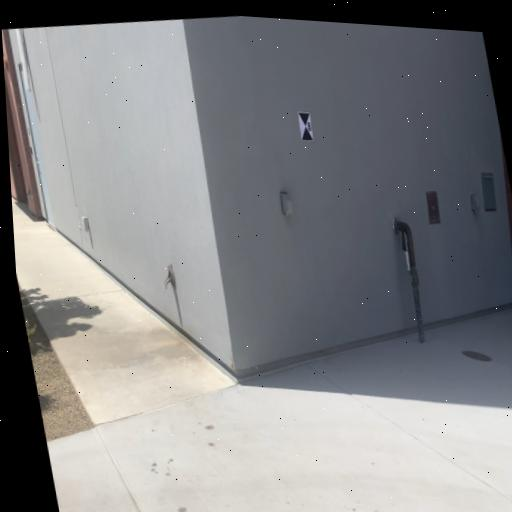target8: (296, 110, 315, 143)
